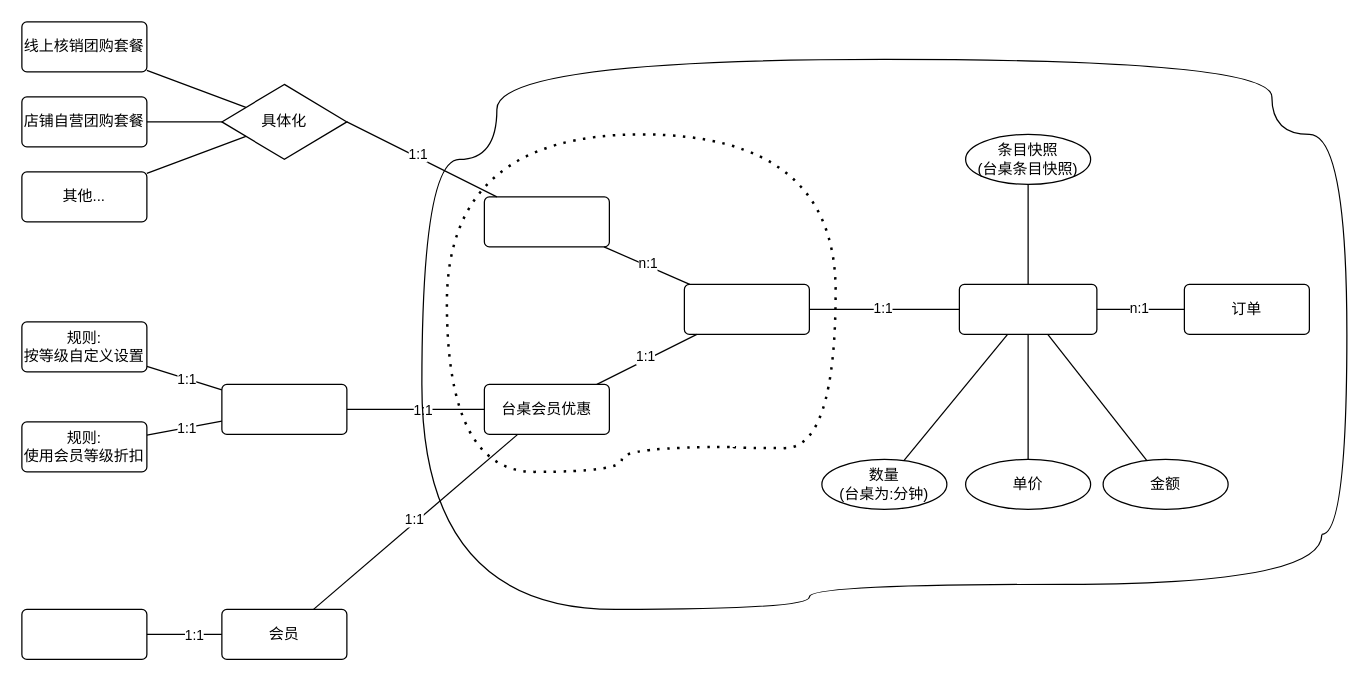
The diagram is 1369 pixels wide and 681 high, and some of its shapes have lost their labels. The centre of each missing label's shape, as x and y in pixels:
会员等级: (x=84, y=633)
台桌会员价规则: (x=284, y=408)
台桌活动优惠: (x=546, y=221)
台桌金额计算器: (x=746, y=308)
订单条目 (类型为台桌的条目): (x=1027, y=308)
